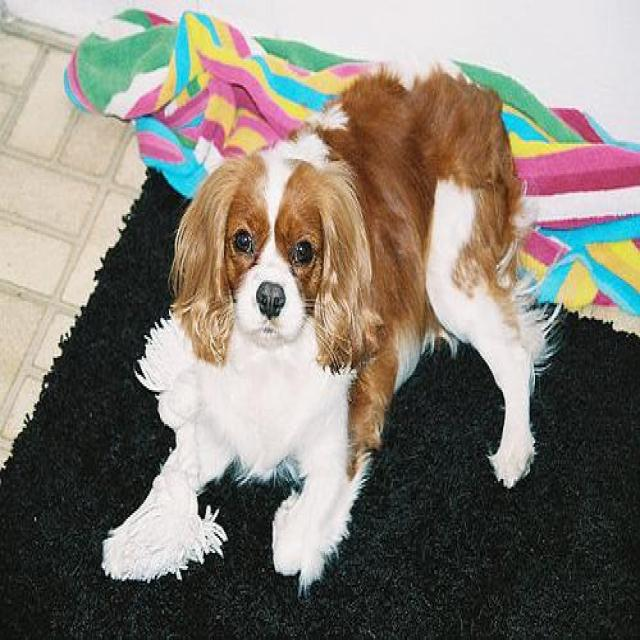blenheim_spaniel: (100, 61, 541, 581)
